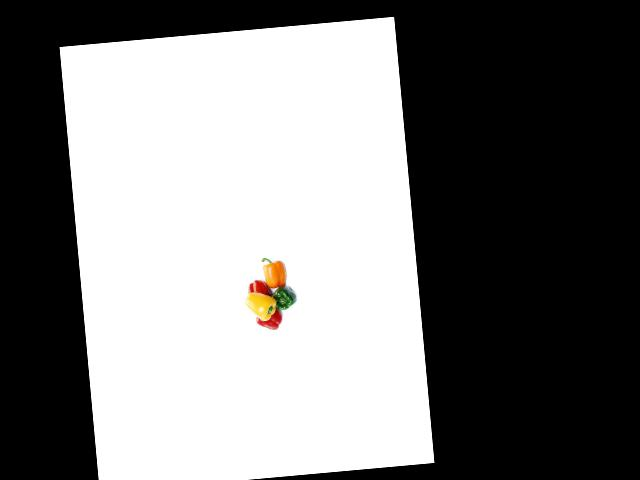bell_pepper: (265, 283, 301, 317)
